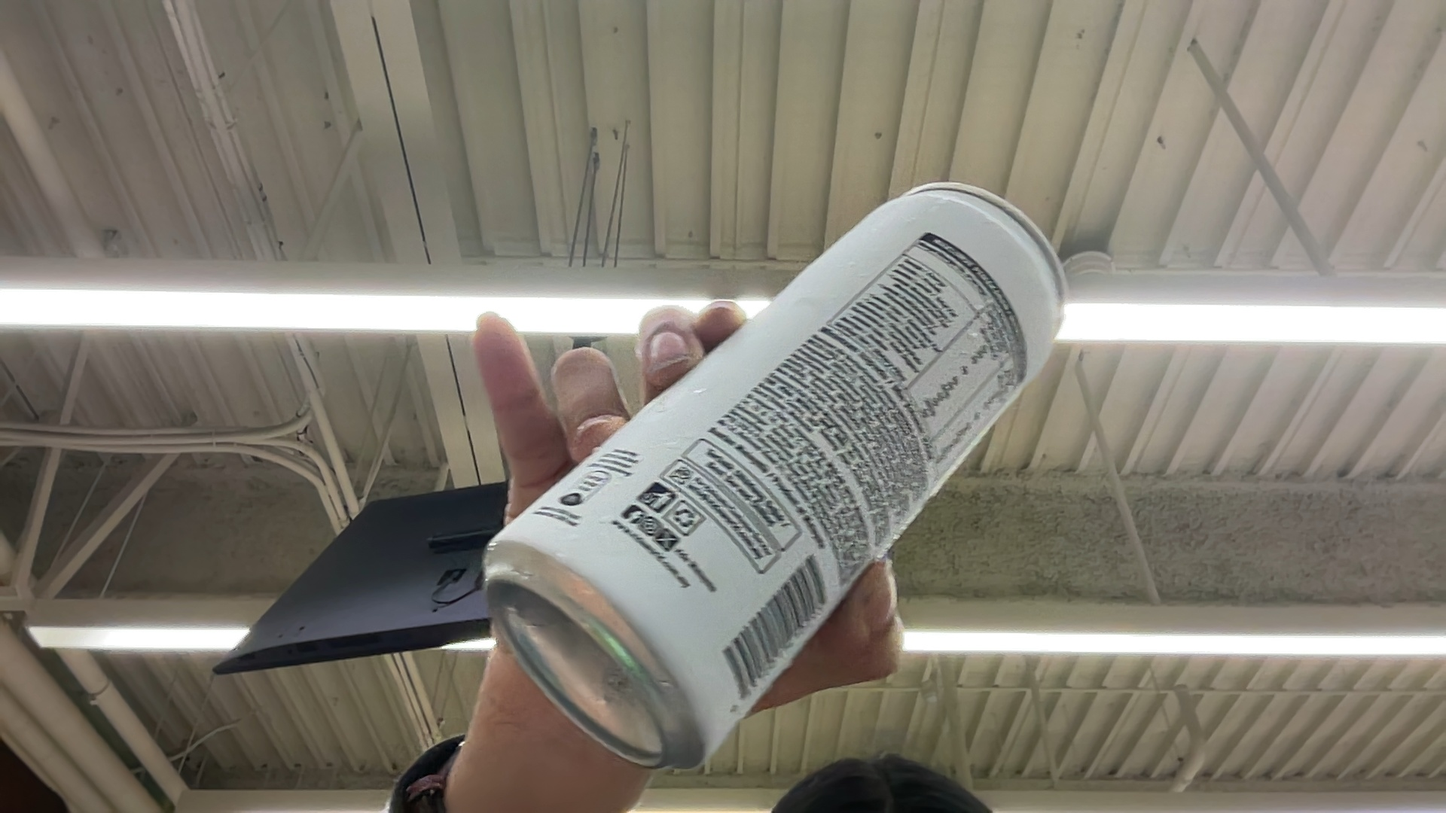Metal: (461, 164, 1114, 767)
